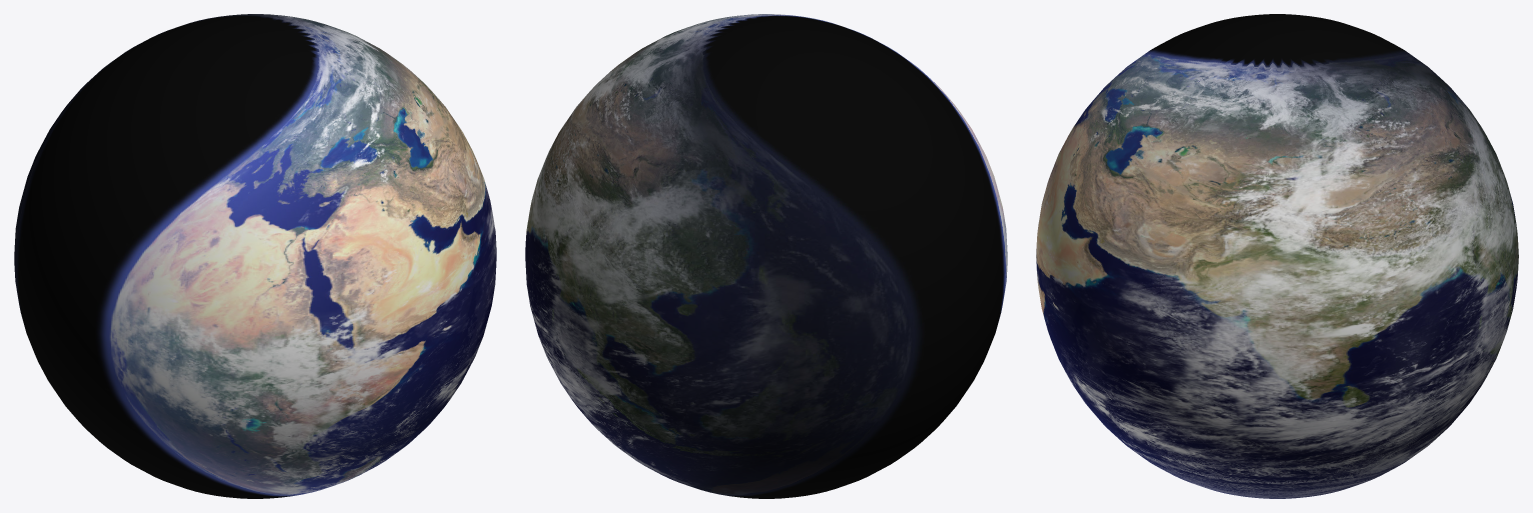
The model's file is Earth.obj.
3 renders of one model, left to right at view 1: azimuth 30°, elevation 25°; view 2: azimuth 150°, elevation 25°; view 3: azimuth 270°, elevation 25°, orthographic.
Visible parts, largest first — view 1: Planet_Sphere; view 2: Planet_Sphere; view 3: Planet_Sphere.
Part boxes in pixels (x1,y1,x2,y2): Planet_Sphere: (14, 14, 496, 498); Planet_Sphere: (525, 14, 1007, 498); Planet_Sphere: (1036, 14, 1518, 498).
Size of the model in its own units: 1.97 by 2 by 1.97.
